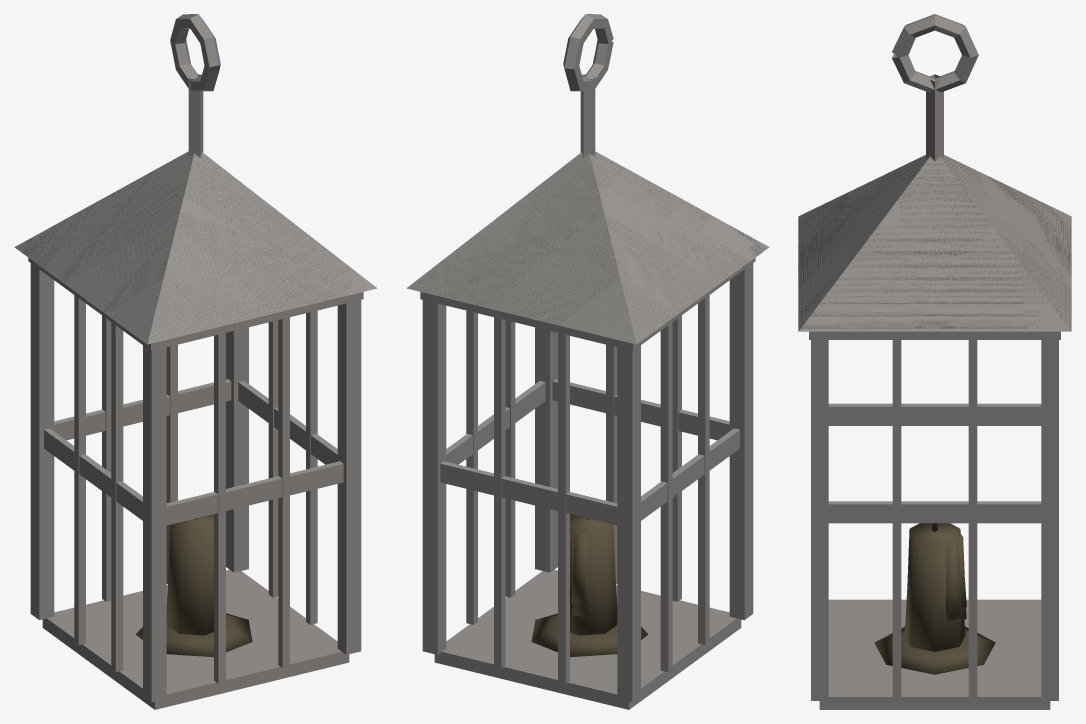
File: prop_inn_lantern.glb
The picture shows the model from 3 angles, left to right: view 1: azimuth 30°, elevation 25°; view 2: azimuth 150°, elevation 25°; view 3: azimuth 270°, elevation 25°; orthographic projection. The views are drawn at different scales.
Parts seen in each view (by area): view 1: InnLantern, InnLanternSoft; view 2: InnLantern, InnLanternSoft; view 3: InnLantern, InnLanternSoft.
Boxes of the visible parts, x1,y1,x2,y2 form: InnLantern: (14,14,377,709); InnLanternSoft: (135,514,252,657); InnLantern: (406,14,769,709); InnLanternSoft: (531,514,648,657); InnLantern: (798,14,1071,709); InnLanternSoft: (874,523,995,674).
Bounding box in the file's own units: 0.154 × 0.4028 × 0.154.
